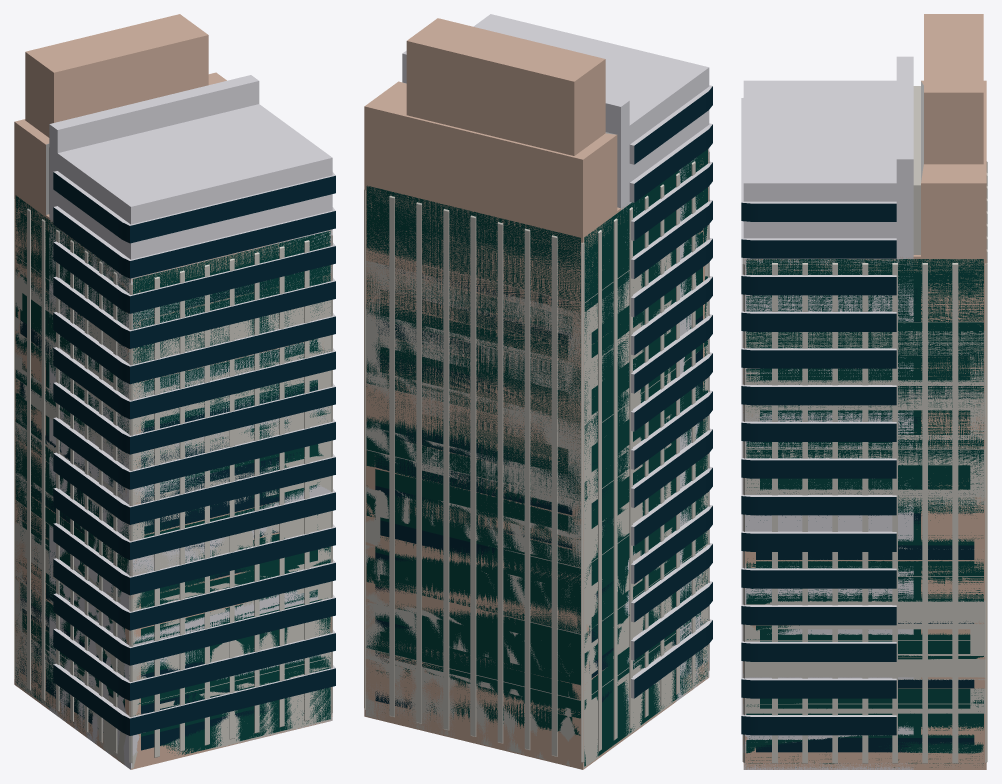
File: building 4 ver2.fbx
3 views of the same model, side by side, from view 1: azimuth 30°, elevation 25°; view 2: azimuth 150°, elevation 25°; view 3: azimuth 270°, elevation 25° (orthographic). The views are drawn at different scales.
Visible parts, largest first — view 1: building_3, building_2_a, building_1_a, buliding_4, building_2_b; view 2: building_3, building_2_a, building_1_a, building_2_b, buliding_4; view 3: building_3, building_2_a, building_1_a, building_2_b, buliding_4.
Boxes of the visible parts, left/top/right/bottom form: building_3: left=14, top=14, right=335, bottom=769; building_2_a: left=15, top=195, right=330, bottom=754; building_1_a: left=15, top=269, right=331, bottom=768; buliding_4: left=14, top=192, right=332, bottom=769; building_2_b: left=14, top=199, right=332, bottom=762; building_3: left=364, top=14, right=712, bottom=769; building_2_a: left=366, top=149, right=707, bottom=766; building_1_a: left=365, top=225, right=708, bottom=767; building_2_b: left=364, top=151, right=709, bottom=762; buliding_4: left=364, top=149, right=709, bottom=769; building_3: left=741, top=14, right=986, bottom=769; building_2_a: left=746, top=259, right=983, bottom=767; building_1_a: left=745, top=331, right=985, bottom=768; building_2_b: left=742, top=161, right=987, bottom=763; buliding_4: left=743, top=255, right=986, bottom=769.
Bounding box in the file's own units: 6.25 × 17.95 × 6.09.
